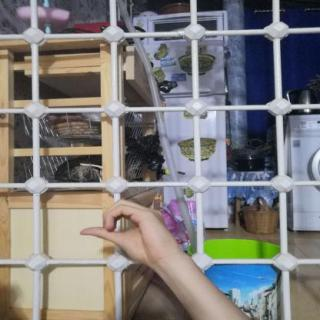WAW: (70, 194, 183, 268)
